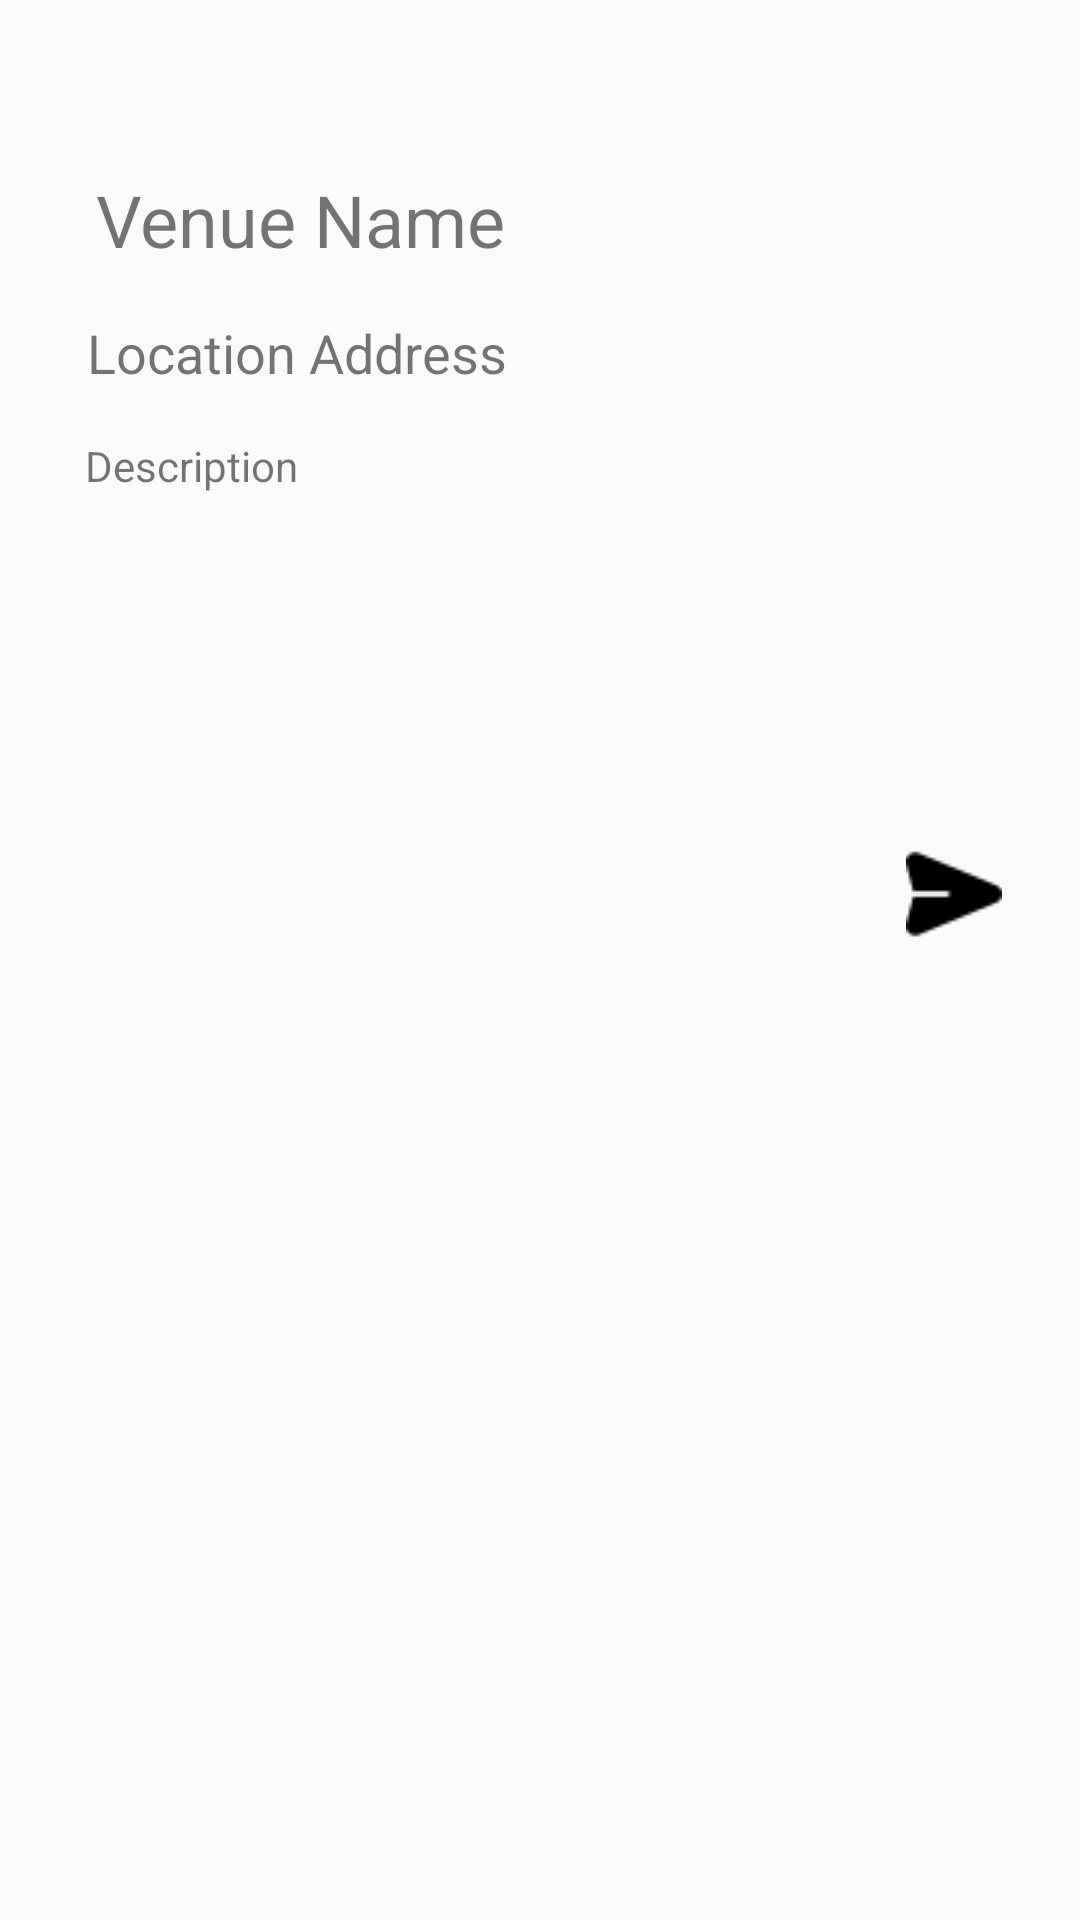

Named icons in this screenshot (1080px x 1920px) and their bounding boxes, (x1, y1, x2, y2):
send: (906, 851, 1002, 937)
